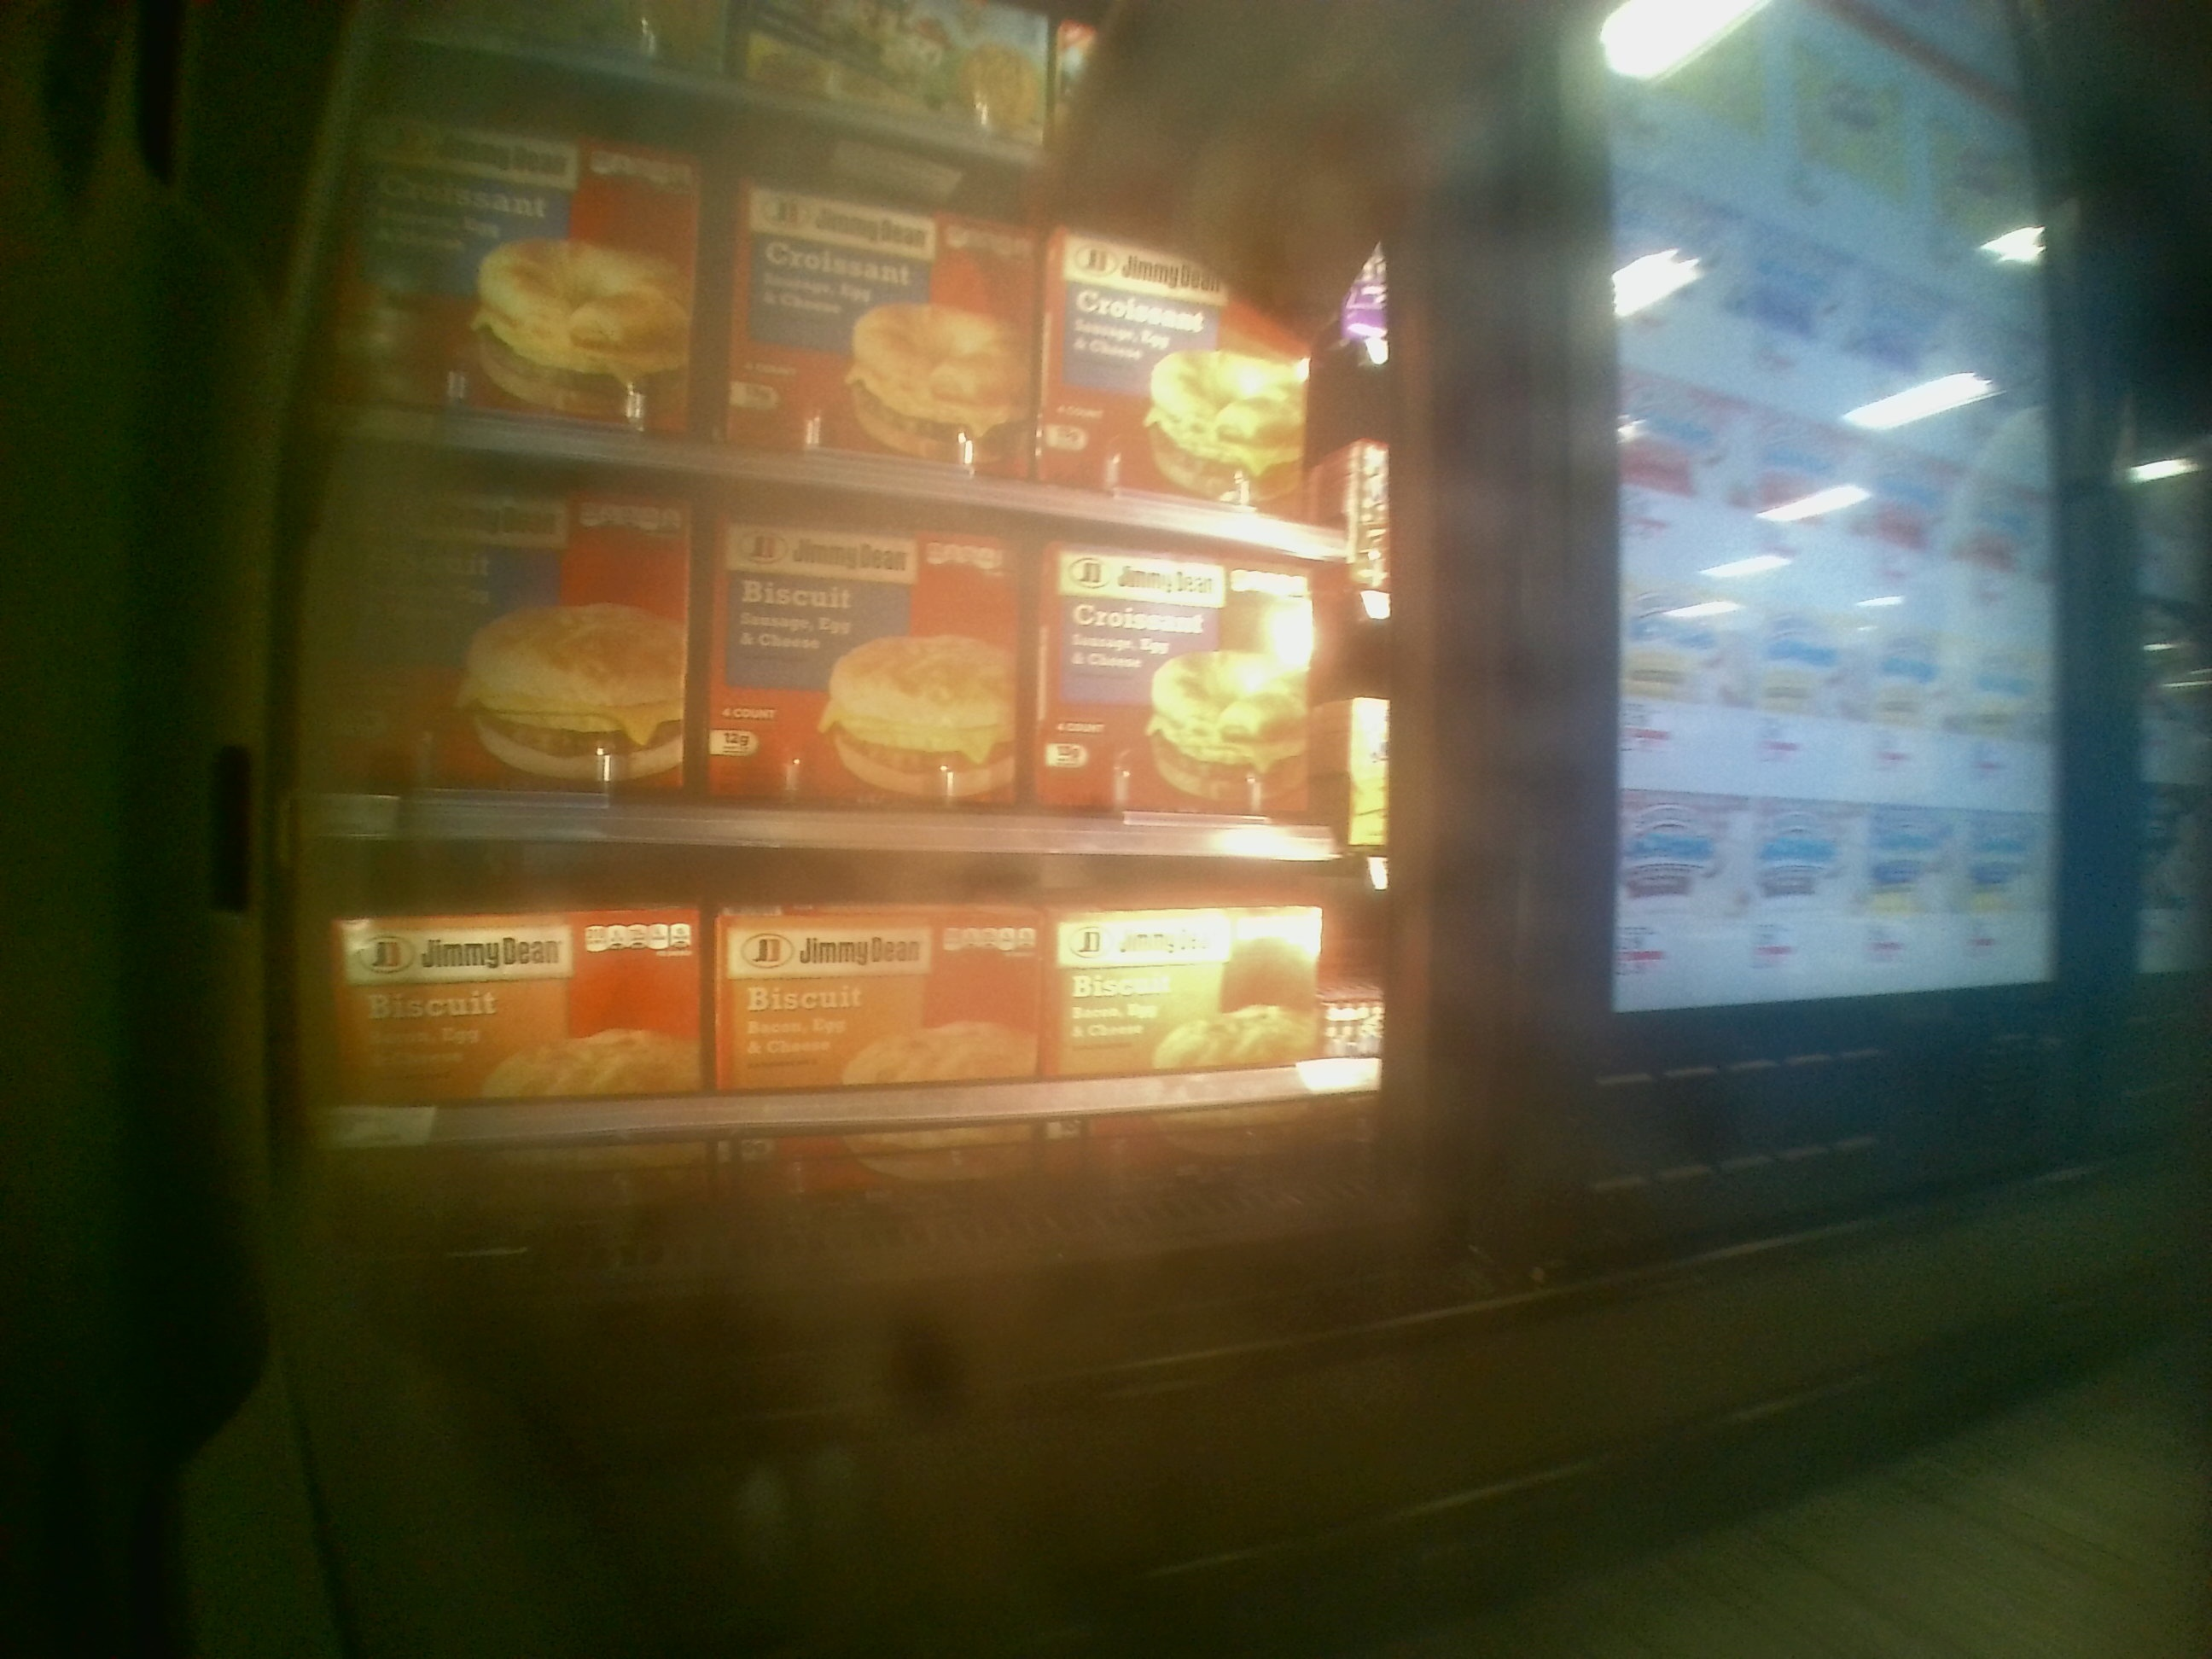shelf: (294, 437, 1407, 842), (298, 849, 1404, 1246)
